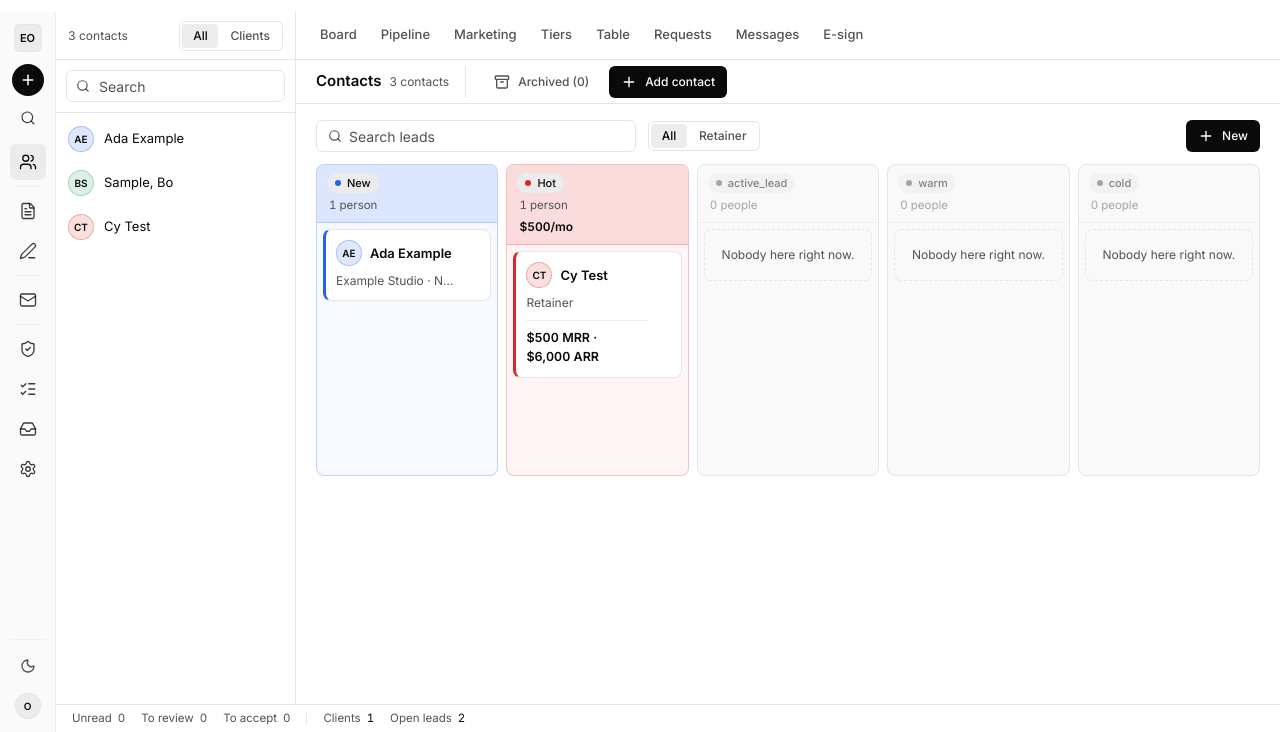
Test case: board and table (wide screens) › the card bar counts accepted quotes as MRR/ARR and shows proposed work apart
Step 1. Click the button with aria-label "Show Cy Test" → (598, 315), box [513,251,682,378]
(page scrolled)
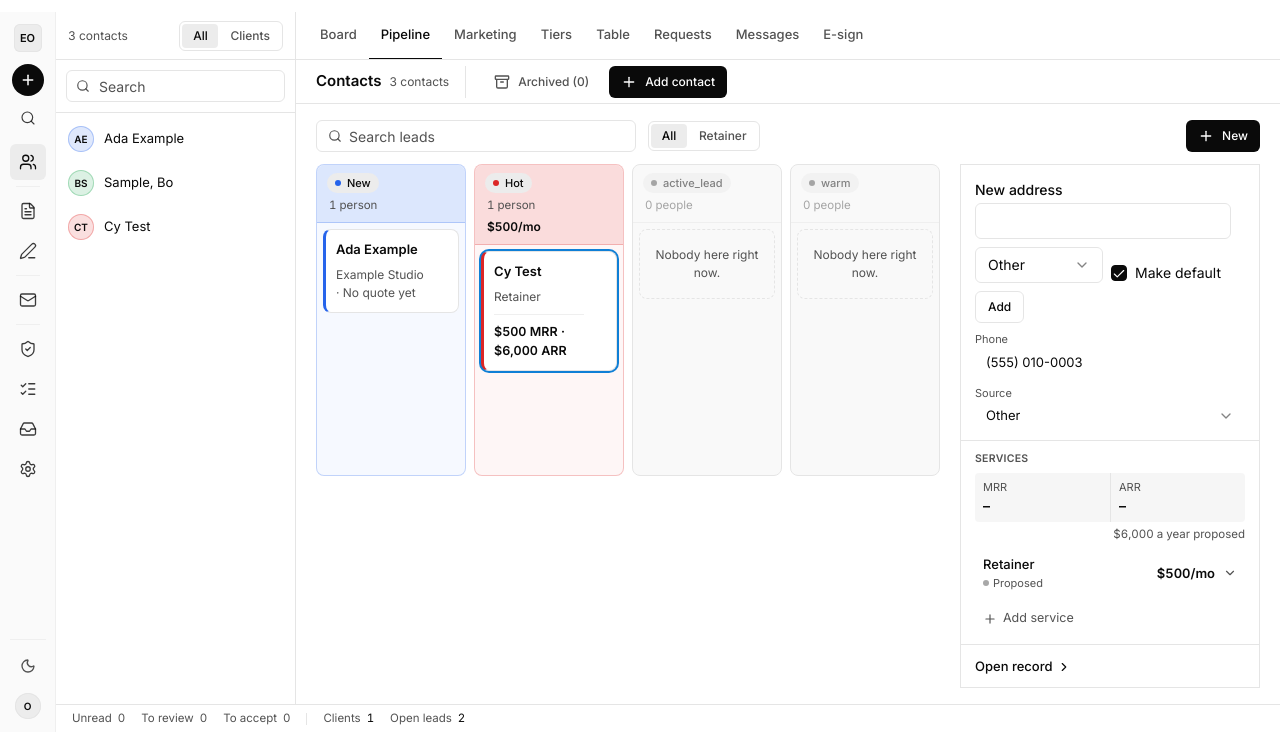
Check: the button with aria-label "Edit Retainer quote" is shown, box [975,549,1245,597]
Check: the text "$6,000 a year proposed" is shown, box [1113,526,1245,543]
